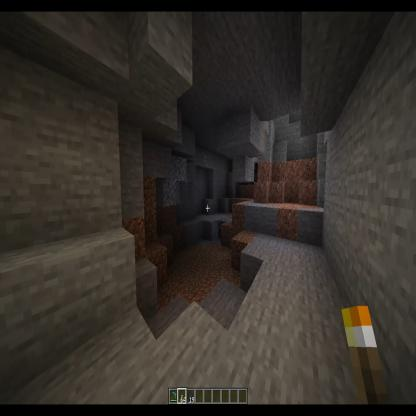iron ore: (260, 121, 267, 156), (201, 146, 209, 169)
